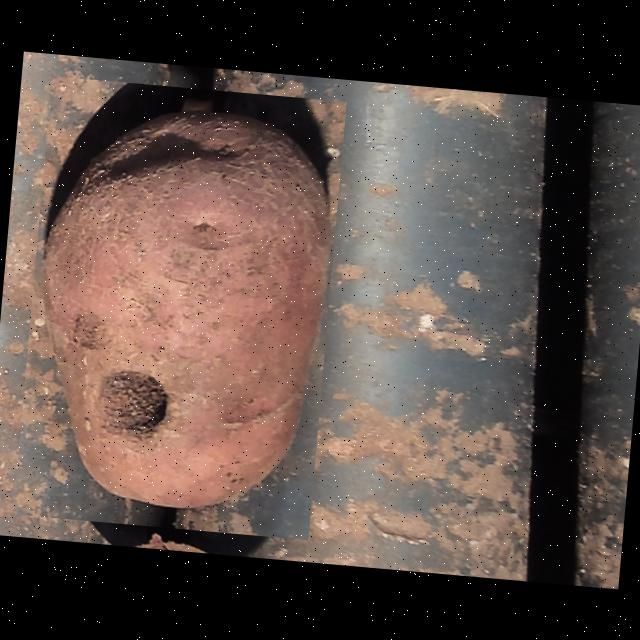Diseased-fungal potato: (12, 76, 345, 540)
